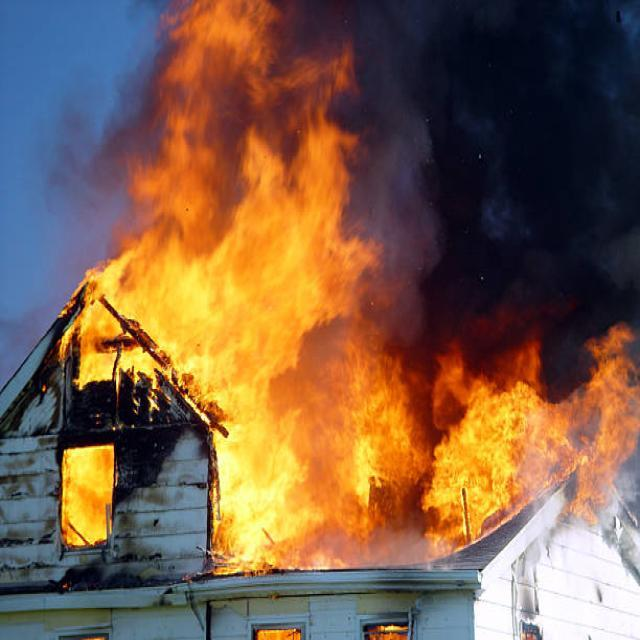Fire: (48, 0, 403, 558), (353, 298, 640, 534)
Smoke: (297, 0, 640, 358)
